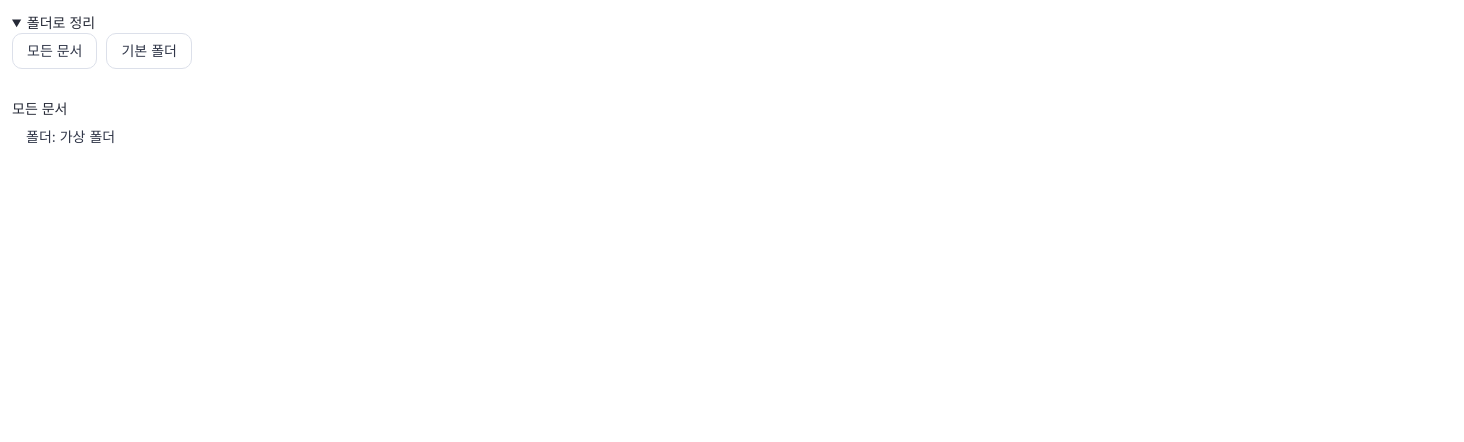
Test: 전체·루트·하위 폴더 탐색은 카드 목록만 필터링한다
expect the button "폴더: 가상 폴더" is shown: met, box [12,119,129,155]
Click the button "기본 폴더" at (149, 51), box [106,33,192,69]
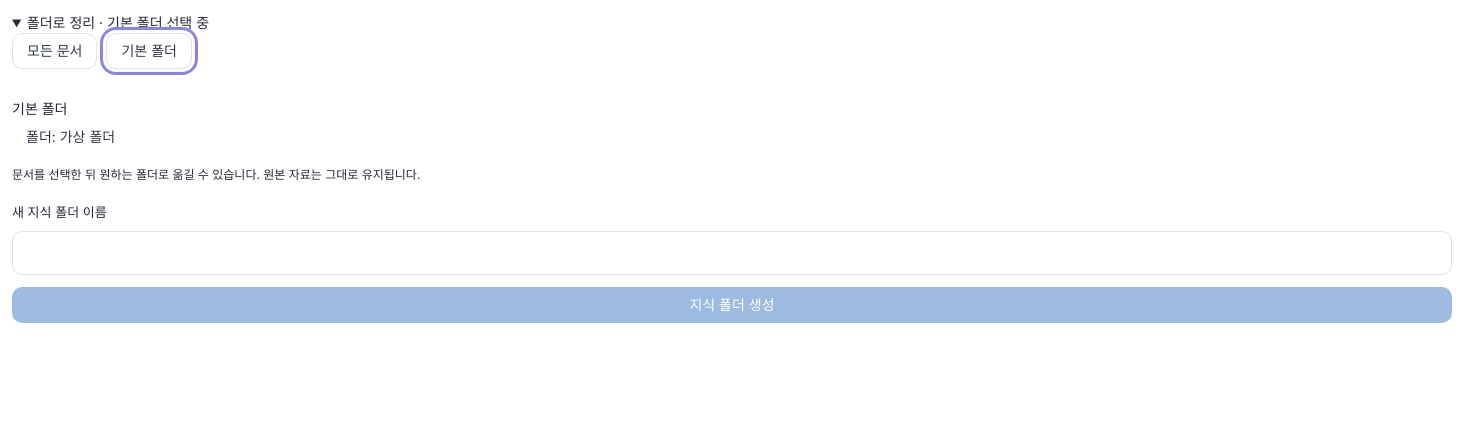
Click the button "폴더: 가상 폴더" at (71, 137), box [12,119,129,155]
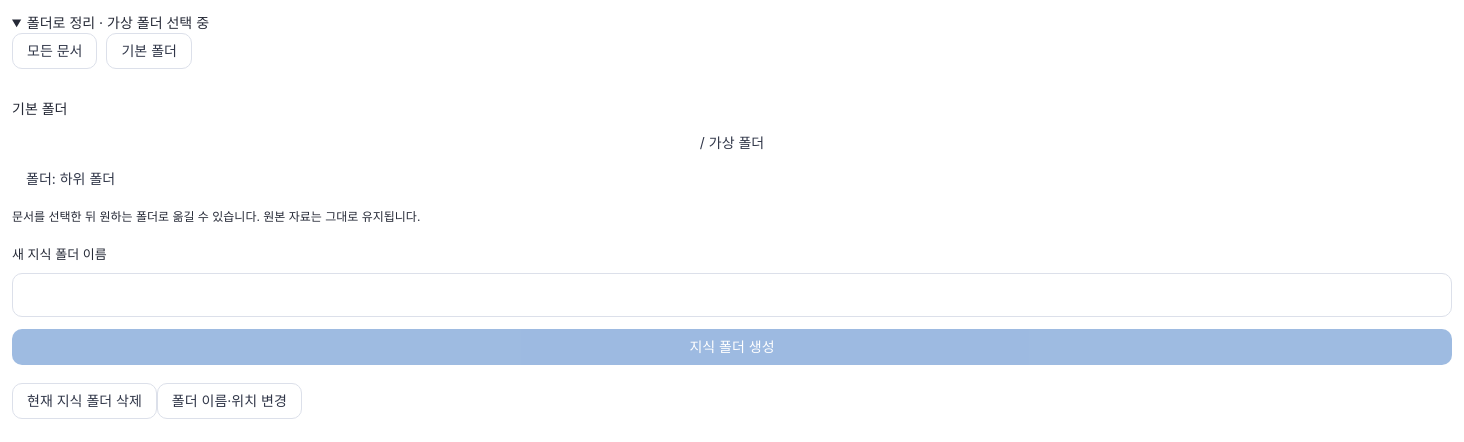
Click the button "폴더: 하위 폴더" at (71, 179), box [12,161,129,197]
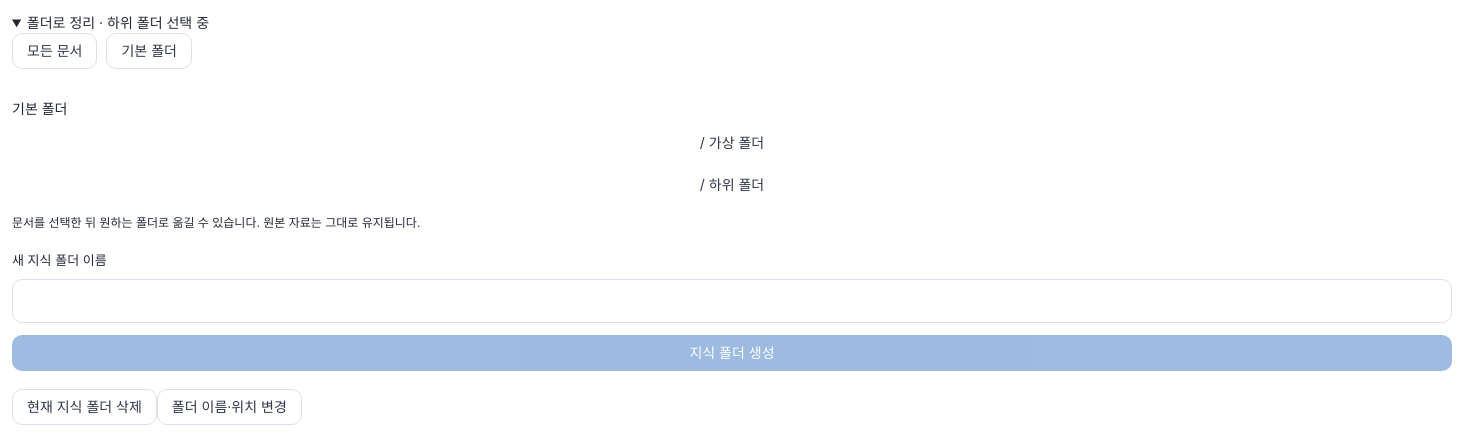
expect the navigation bar named "지식 폴더 경로" shows "가상 폴더 / 하위 폴더": met, box [12,98,1452,203]
